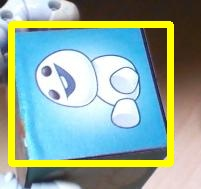Blue1: (11, 24, 170, 163)
